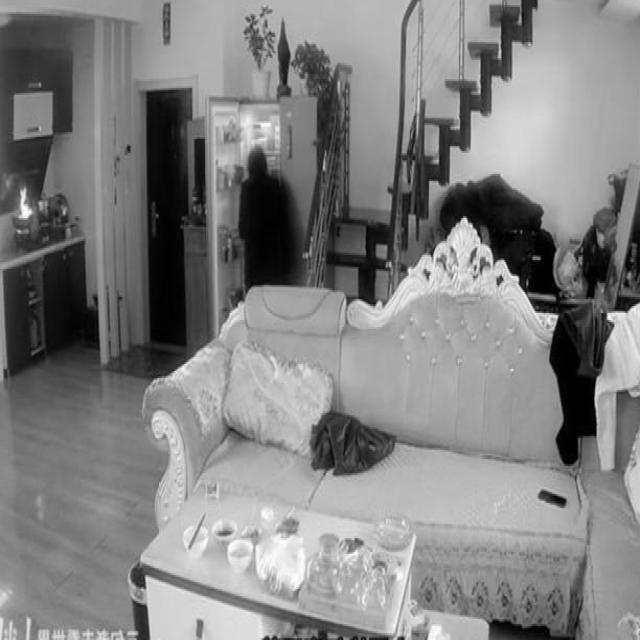smoke: (12, 174, 36, 227)
